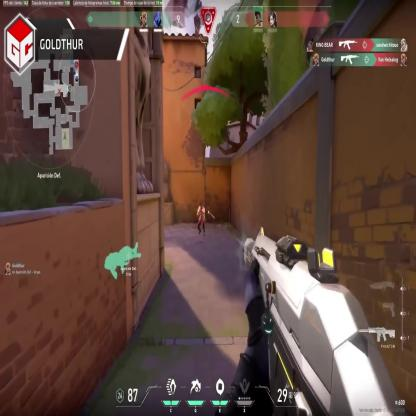enemy: (196, 201, 206, 236)
enemy_head: (200, 202, 202, 209)
